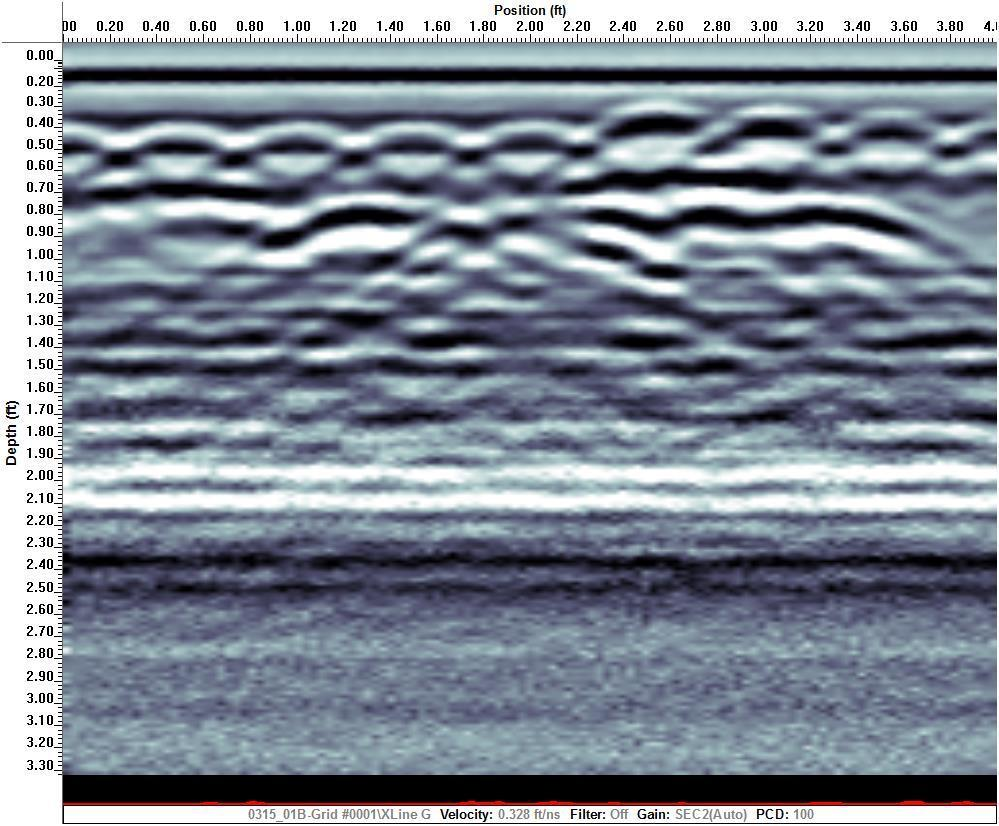hyperbola: (348, 117, 487, 167), (231, 117, 370, 167), (104, 119, 243, 169), (462, 119, 601, 169), (696, 105, 835, 155), (582, 94, 721, 144), (820, 106, 959, 156)
